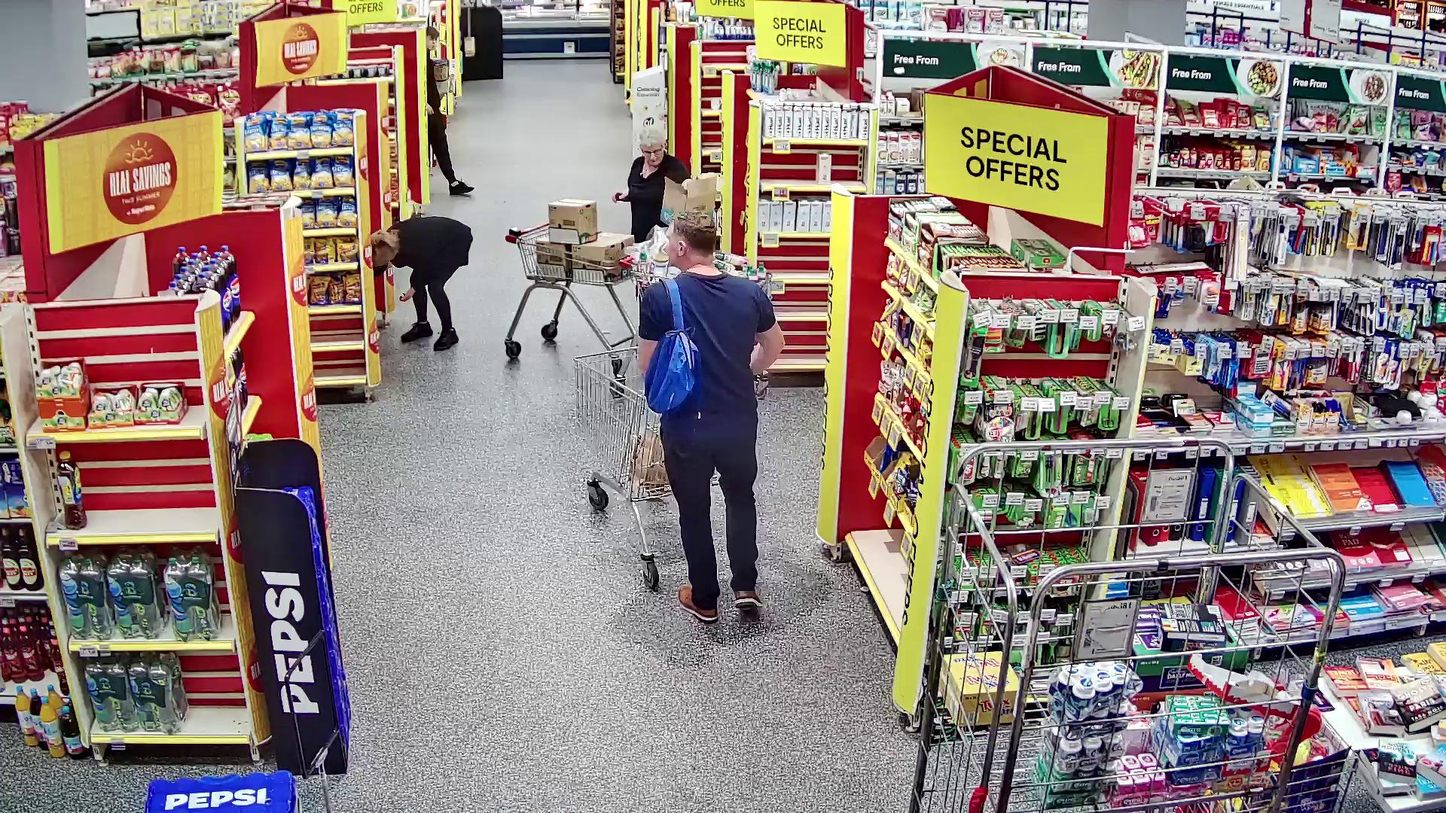backpack-or-handbag: (645, 328, 700, 413)
filled-trolly: (572, 346, 669, 587)
person: (642, 213, 785, 621)
person-with-basket-trolly-and-backpack-handbag: (572, 212, 786, 623)
